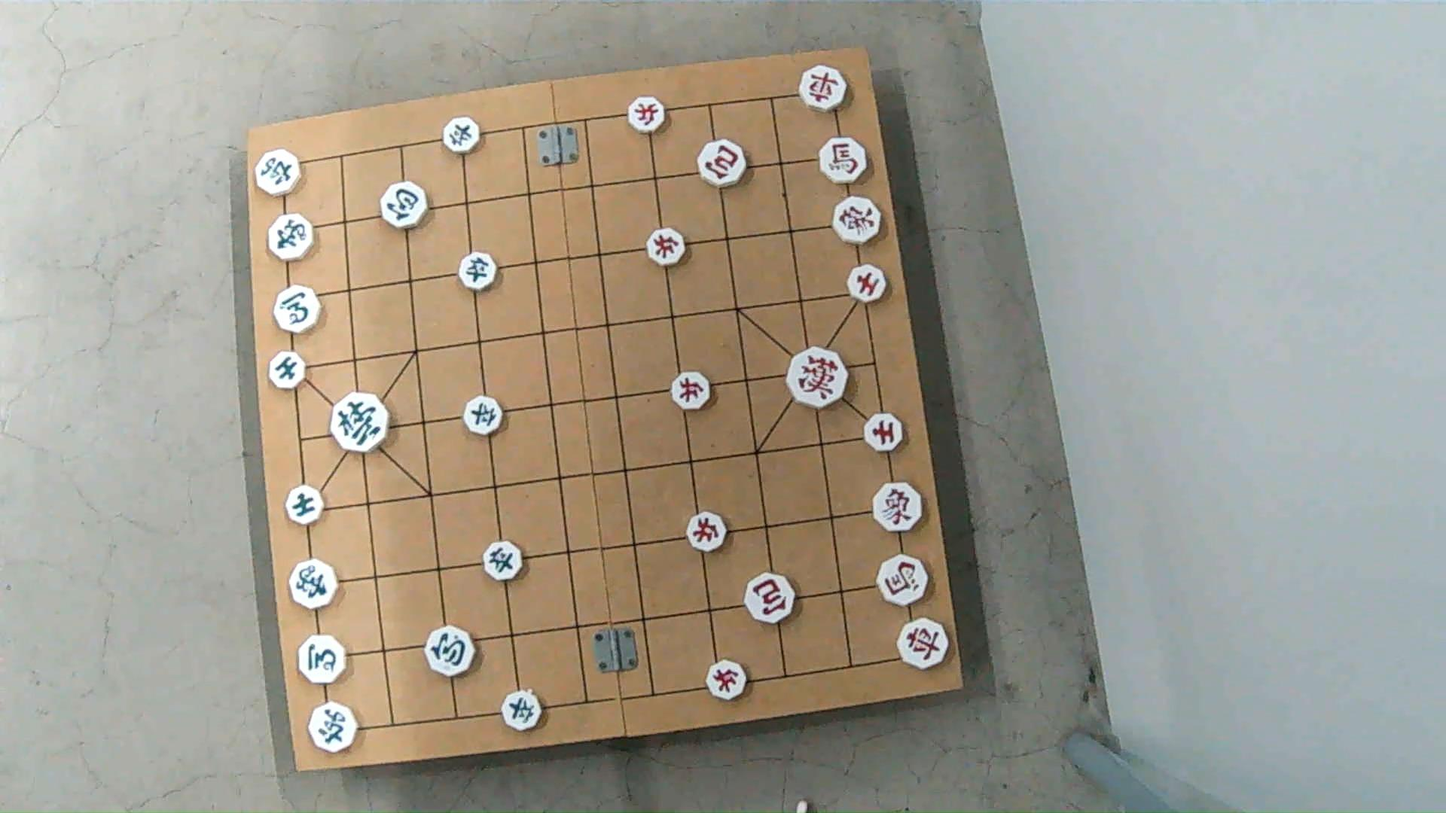cha_green: (304, 705, 357, 751), (255, 153, 306, 196)
cha_red: (894, 619, 950, 666), (800, 69, 850, 110)
jol_green: (463, 395, 507, 437), (503, 693, 547, 731), (482, 544, 526, 579), (458, 257, 501, 291), (444, 120, 486, 153)
jol_red: (707, 663, 752, 699), (667, 372, 712, 407), (687, 516, 730, 551), (644, 230, 686, 263), (627, 99, 668, 131)
ma_green: (296, 638, 348, 684), (272, 290, 324, 333)
ma_red: (877, 558, 932, 603), (818, 140, 870, 183)
po_green: (424, 627, 481, 678), (381, 187, 433, 229)
po_red: (700, 139, 752, 188), (746, 576, 798, 623)
sa_green: (285, 486, 327, 520), (265, 353, 306, 387)
sa_red: (842, 265, 889, 304), (864, 413, 906, 452)
sang_green: (266, 213, 316, 264), (288, 559, 339, 607)
sang_red: (873, 480, 922, 530), (831, 199, 884, 243)
wang_green: (331, 394, 392, 450)
wang_red: (787, 351, 849, 406)
